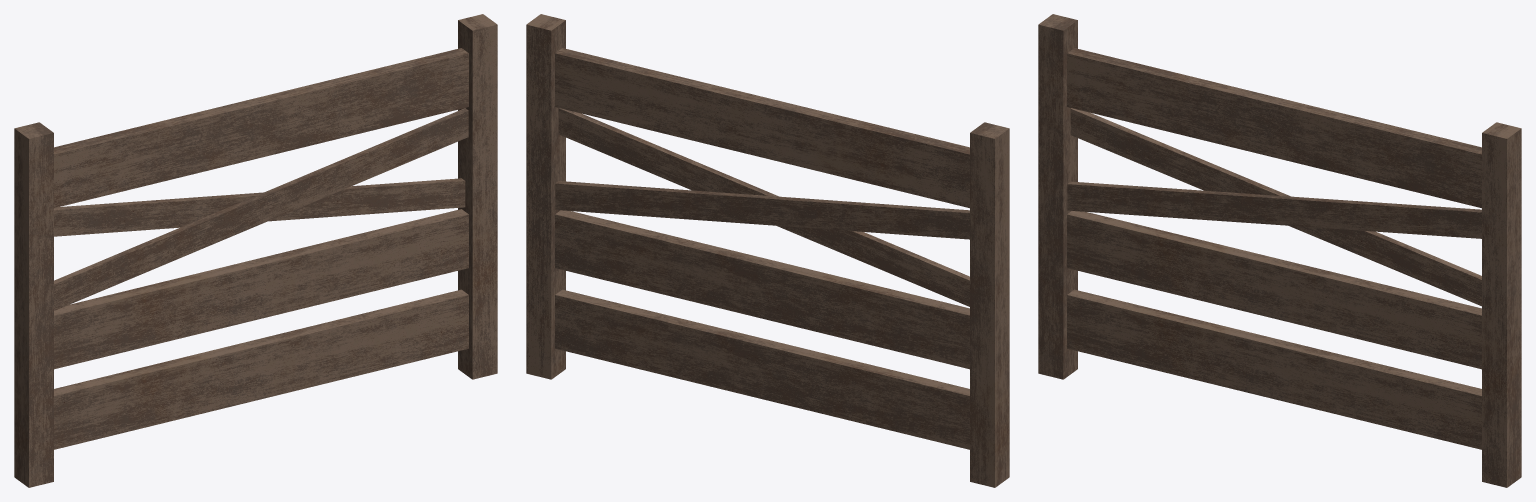
Rendered from WoodenClosed.fbx.
3 renders of one model, left to right at view 1: azimuth 30°, elevation 25°; view 2: azimuth 150°, elevation 25°; view 3: azimuth 330°, elevation 25°, orthographic.
Parts seen in each view (by area): view 1: Cube.015; view 2: Cube.015; view 3: Cube.015.
Boxes of the visible parts, bbox=[...] form: Cube.015: bbox=[14, 14, 497, 487]; Cube.015: bbox=[526, 14, 1009, 487]; Cube.015: bbox=[1038, 14, 1521, 487].
Bounding box in the file's own units: 183 × 130 × 9.8.
